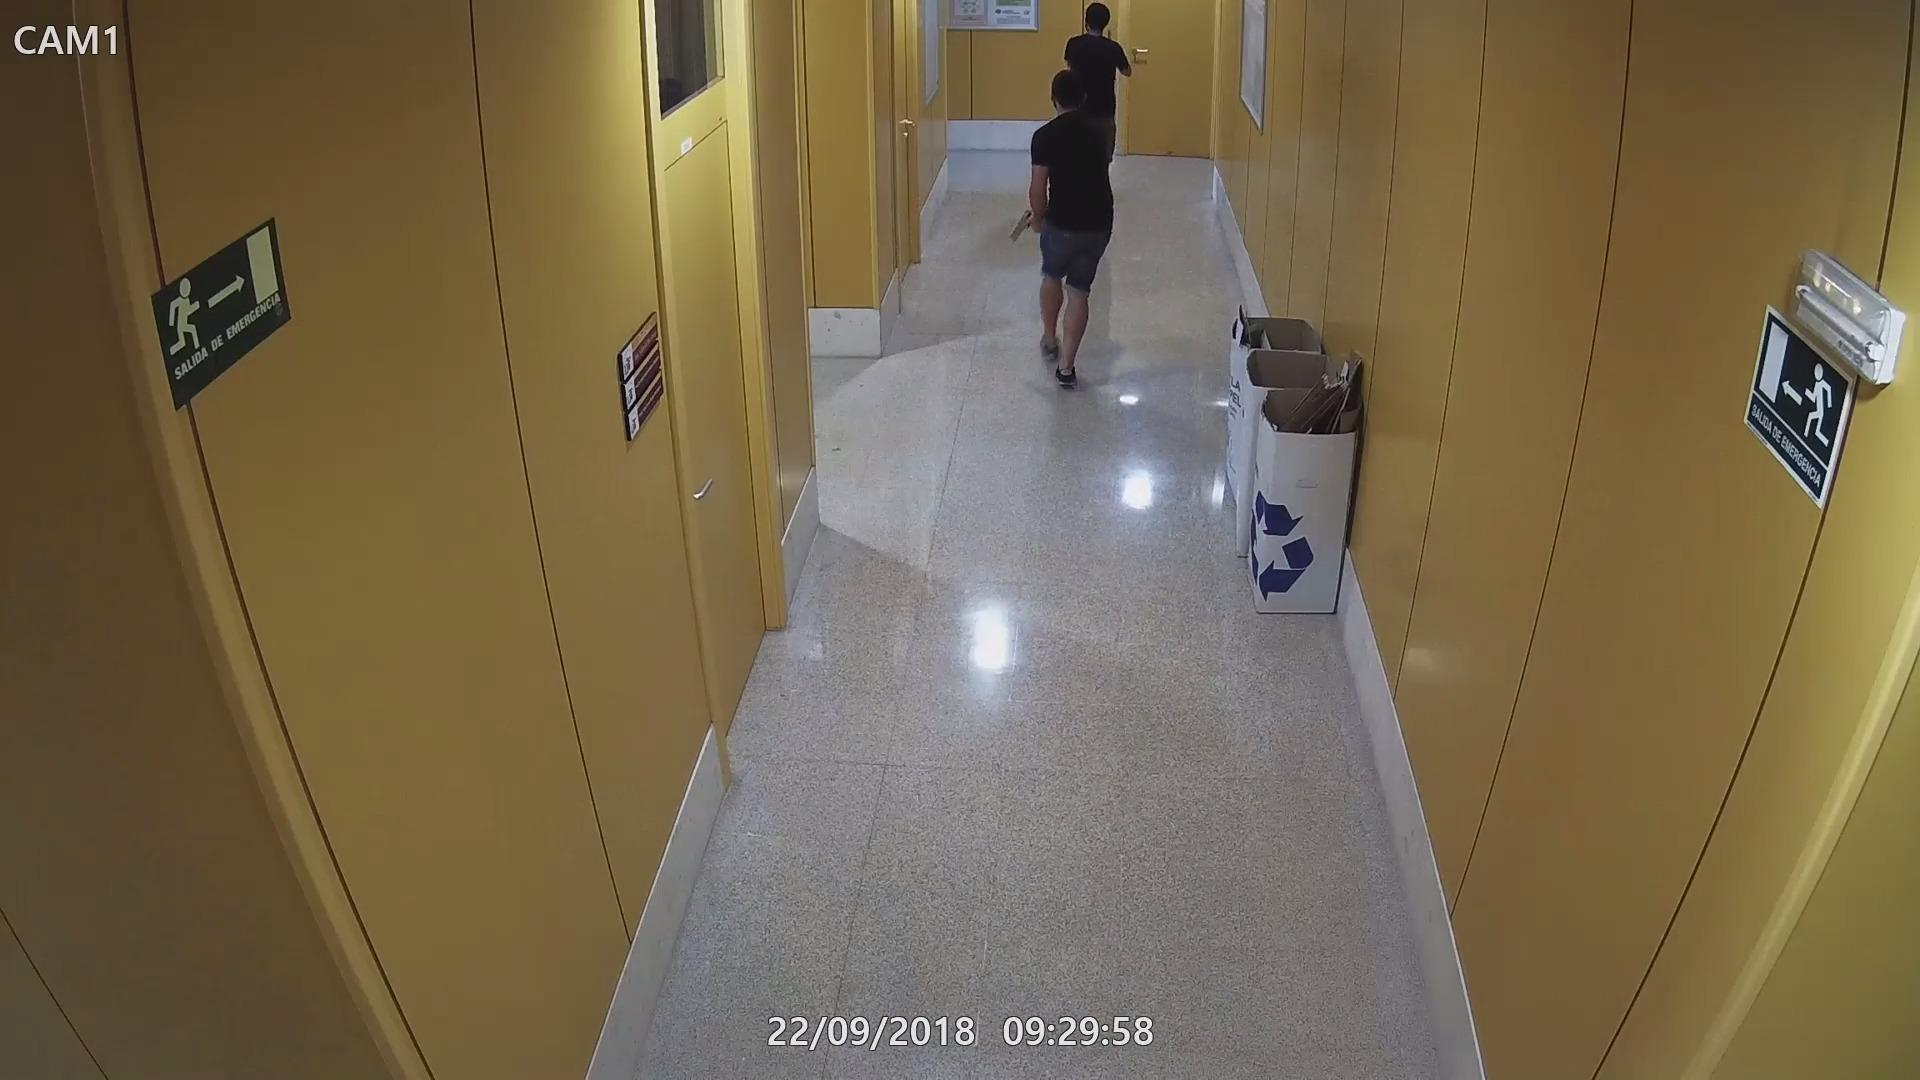Handgun: (1006, 204, 1039, 239)
